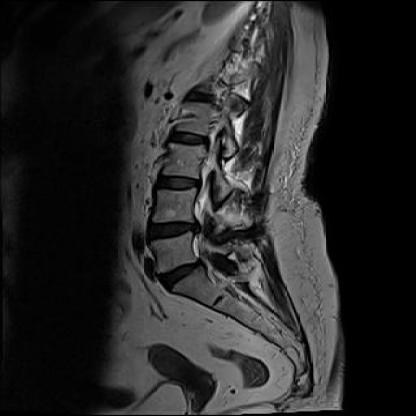Disc Bulgerotation: (148, 218, 199, 241), (158, 263, 205, 285)
